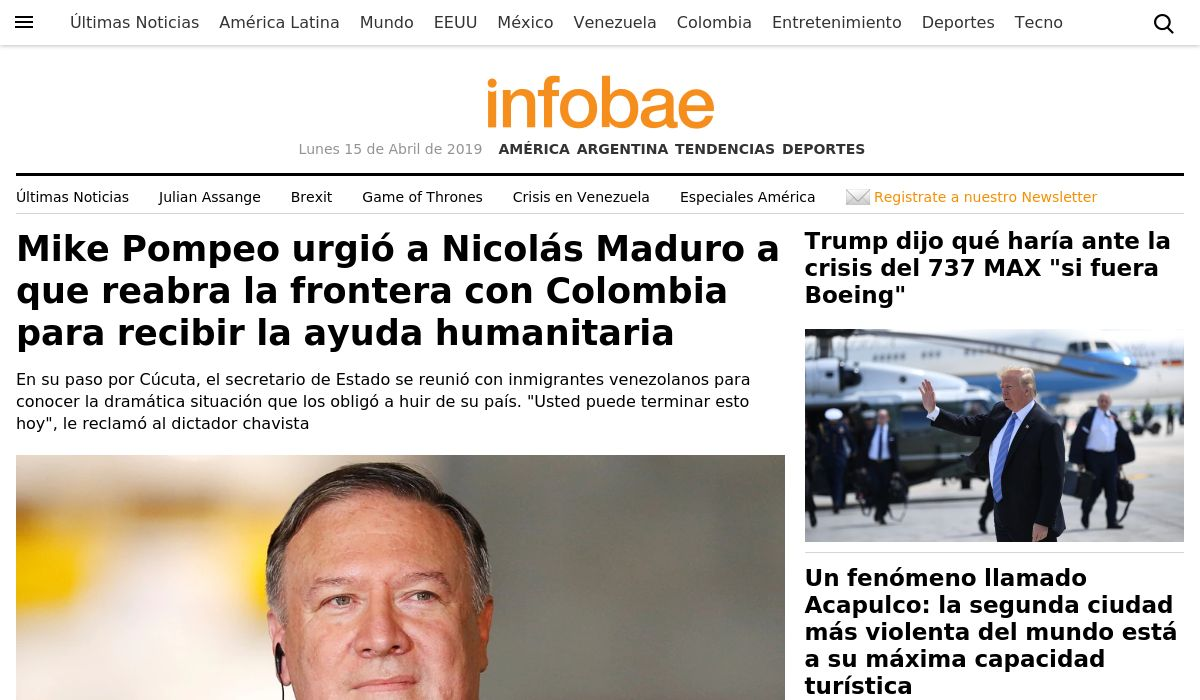menu: (1, 1, 1199, 47)
menu-button: (61, 7, 203, 36), (770, 7, 903, 36), (213, 7, 346, 35), (568, 7, 659, 36), (667, 7, 758, 36), (917, 7, 1000, 36), (356, 7, 418, 36), (425, 7, 487, 36), (495, 7, 557, 36), (1010, 7, 1066, 36), (1144, 7, 1184, 38), (7, 7, 42, 36)
